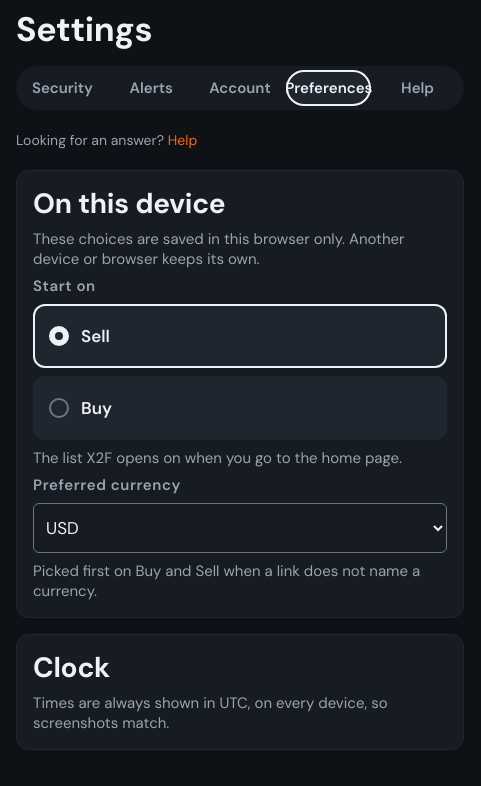
it: the Preferences tab › shows the defaults when unset and saves each change on this device
Later steps or results of the test are not shown.
Expected: the dropdown labelled "Preferred currency" shows "USD", [33,503,447,553]
Click the radio button labelled "Buy": x=96, y=408 [33,376,447,440]
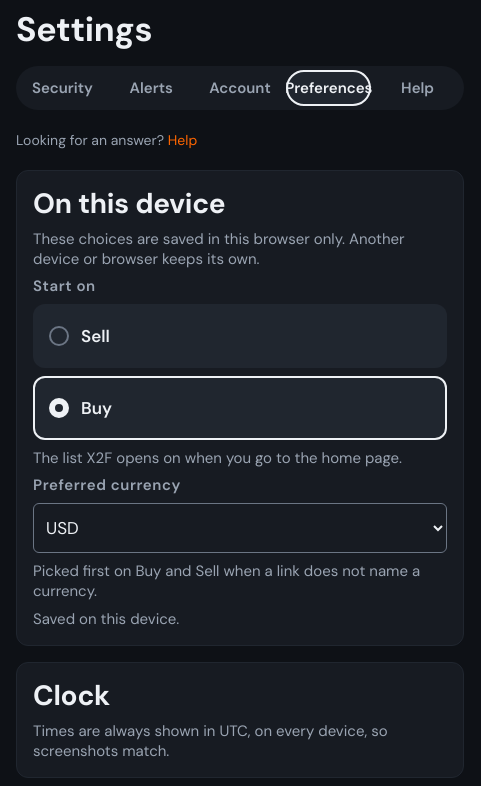
Expected: the message "Saved on this device." is shown, [33,609,179,629]
